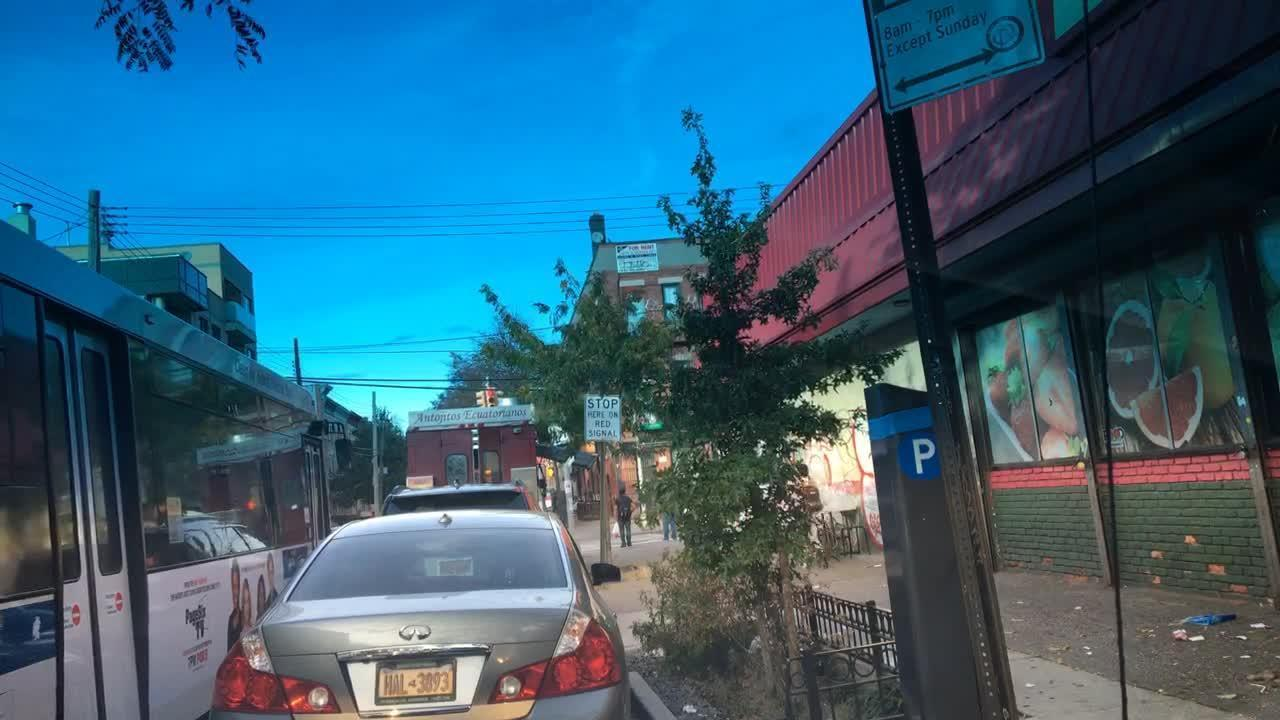Infiniti: (395, 621, 437, 647)
